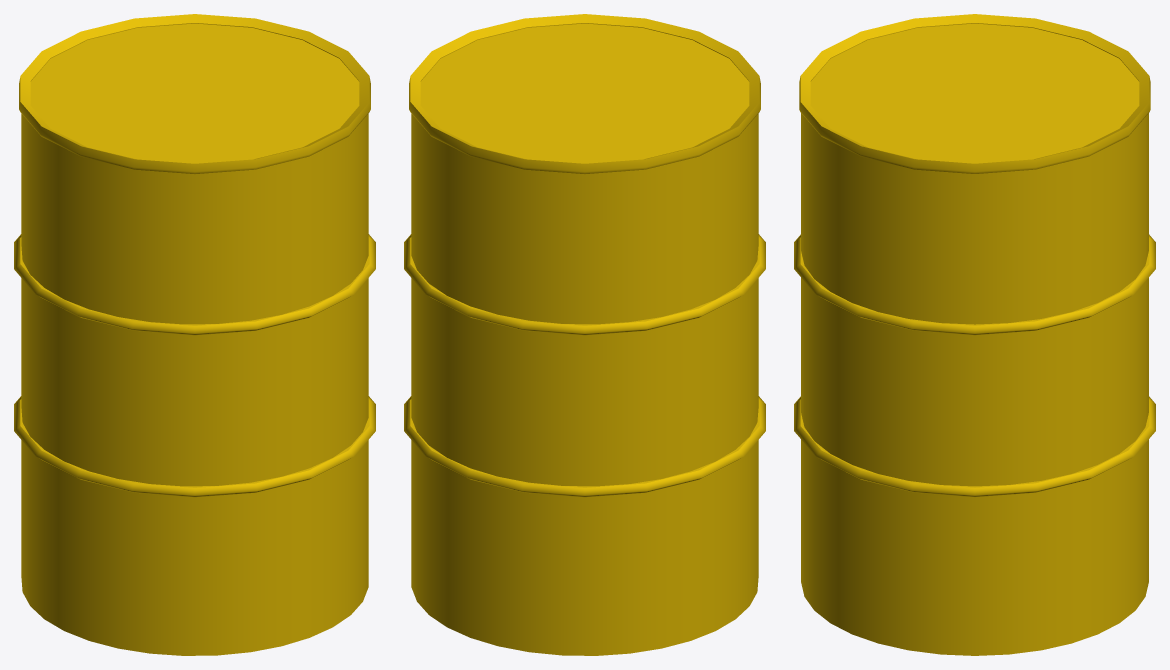
Rendered from Barrel.fbx.
3 views of the same model, side by side, from view 1: azimuth 30°, elevation 25°; view 2: azimuth 150°, elevation 25°; view 3: azimuth 270°, elevation 25° (orthographic).
Visible parts, largest first — view 1: Barrel; view 2: Barrel; view 3: Barrel.
Boxes of the visible parts, bbox=[...] form: Barrel: bbox=[14, 14, 375, 655]; Barrel: bbox=[404, 14, 765, 655]; Barrel: bbox=[794, 14, 1155, 655].
Size of the model in its own units: 65.74 by 97.45 by 64.74.
